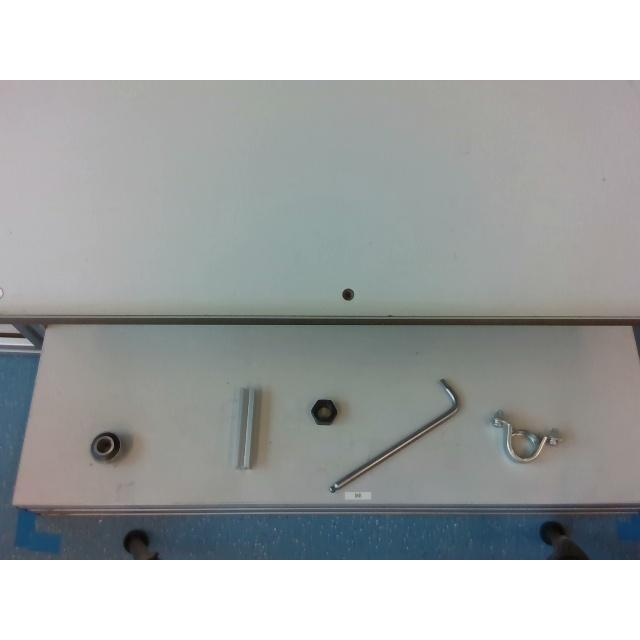AllenKey: (329, 379, 459, 493)
Bearing2: (90, 432, 120, 460)
F20_20_G: (233, 386, 259, 469)
Housing: (490, 411, 558, 462)
M20: (310, 398, 336, 424)
